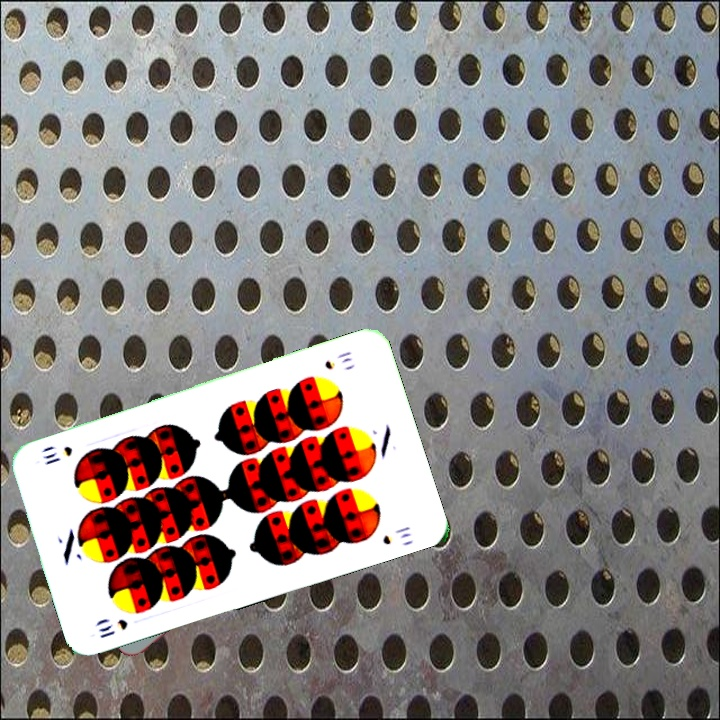S10: (94, 615, 131, 641), (320, 347, 355, 372)
